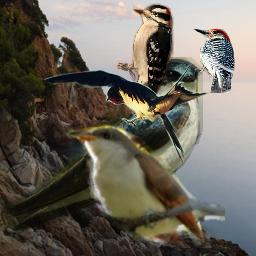Cuckoo: (63, 114, 225, 248)
Swallow: (1, 57, 203, 235), (41, 61, 238, 164)
Woodpecker: (115, 2, 174, 103), (191, 25, 237, 93)
